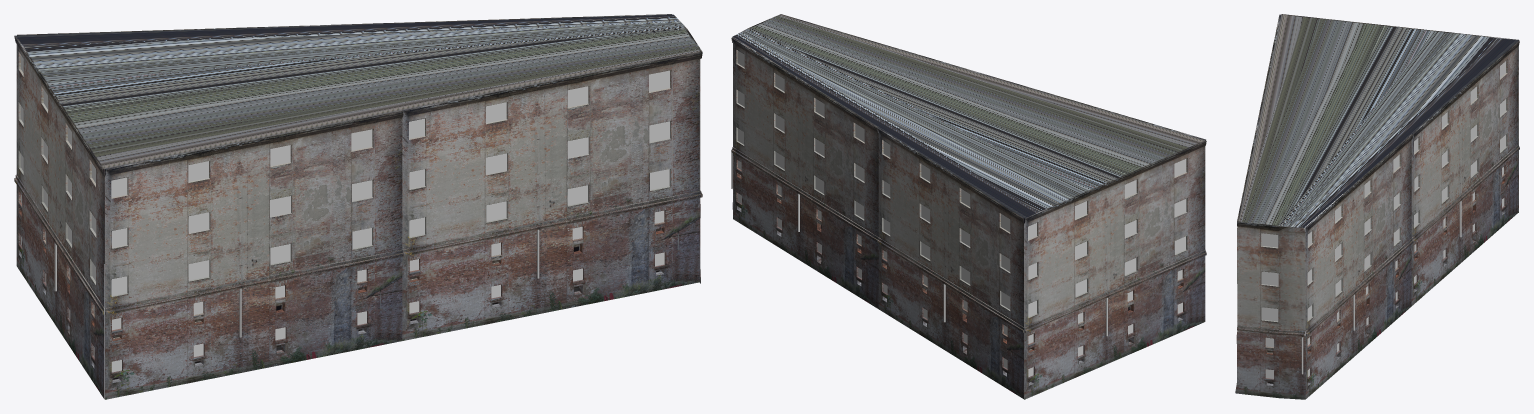
The model's file is EdificioTriangular.fbx.
3 renders of one model, left to right at view 1: azimuth 30°, elevation 25°; view 2: azimuth 150°, elevation 25°; view 3: azimuth 270°, elevation 25°, orthographic. The views are drawn at different scales.
Visible parts, largest first — view 1: Plane.020; view 2: Plane.020; view 3: Plane.020.
Part boxes in pixels (<box>): Plane.020: <box>14,14,702,399</box>; Plane.020: <box>731,14,1206,399</box>; Plane.020: <box>1235,14,1519,399</box>.
Size of the model in its own units: 121 by 45.23 by 67.51.
Materials: 3 (1 with a texture image).
